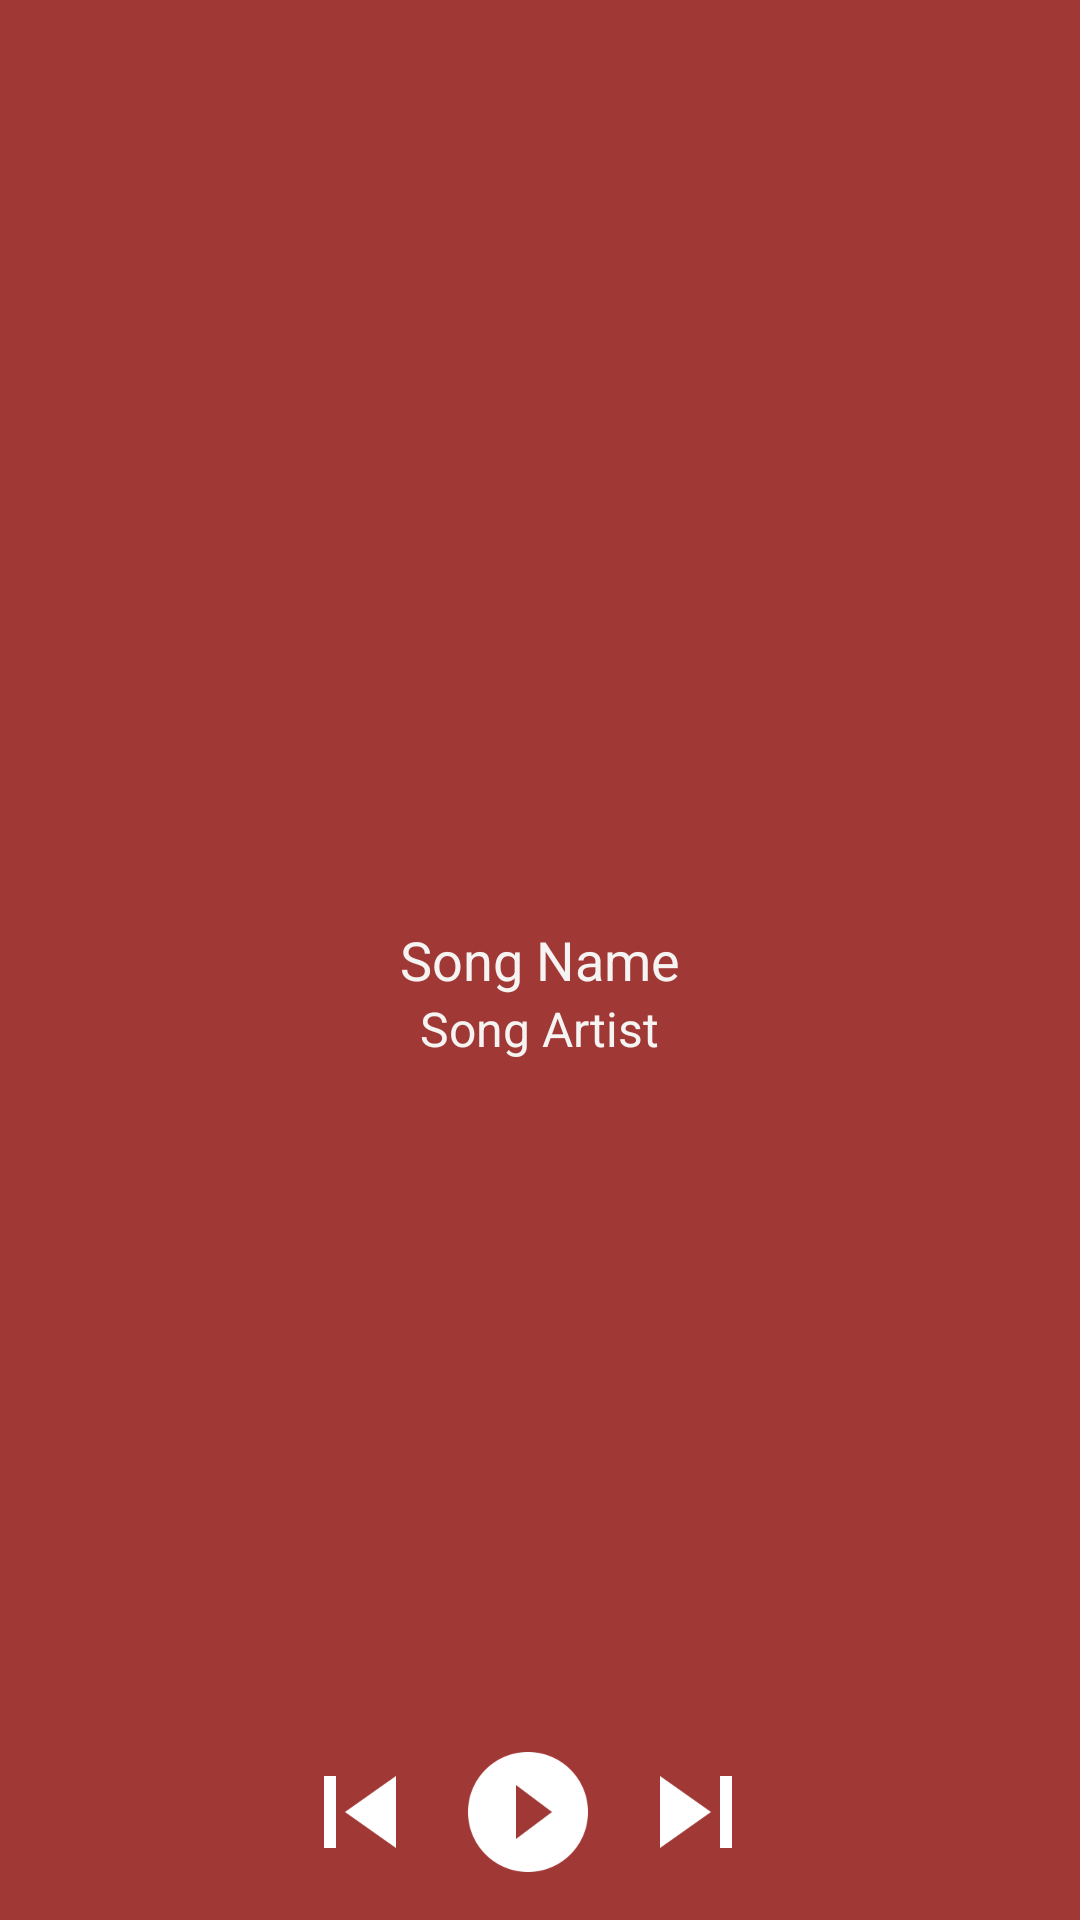

Icons on this 1080 x 1920 Android screen, each with its box as (left=x1, top=y1, right=x2, bottom=y2):
next: (left=660, top=1776, right=732, bottom=1848)
play: (left=468, top=1752, right=588, bottom=1872)
previous: (left=324, top=1776, right=396, bottom=1848)
